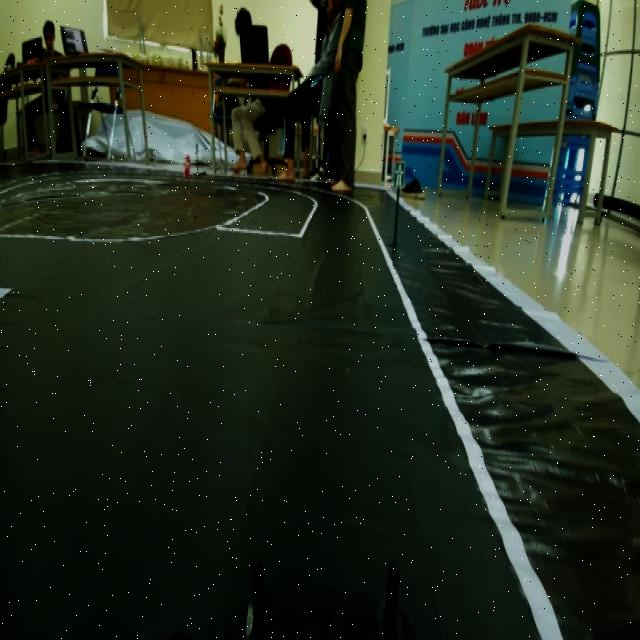highway_entry: (389, 152, 409, 195)
